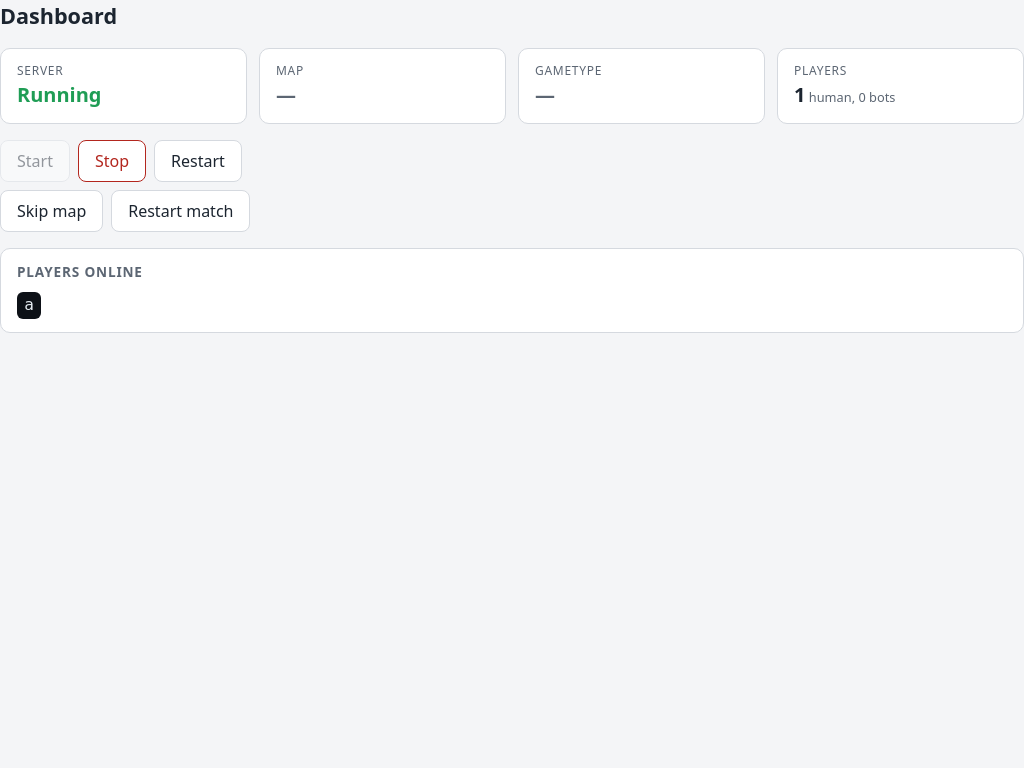
Scenario: stop and restart confirmation (8.5) › cancelling leaves the server alone
Click the button "Restart". click: (198, 161)
box: x1=154 y1=140 x2=242 y2=182
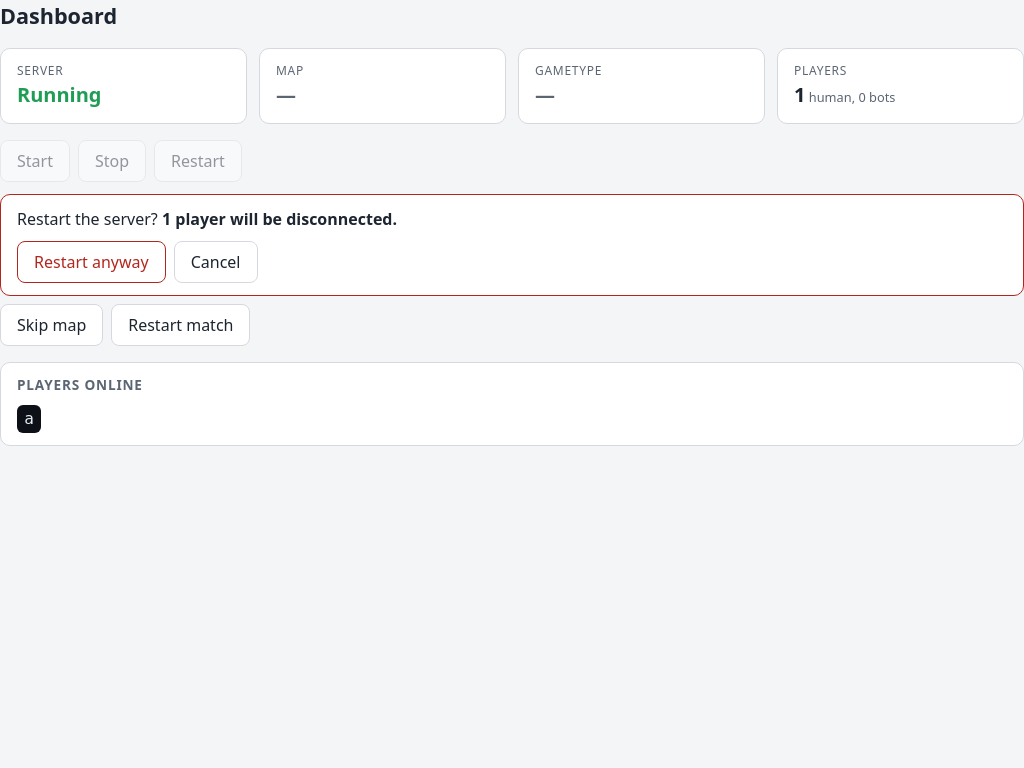
Result: the dialog shows "1 player will be disconnected" at x1=0 y1=194 x2=1023 y2=296
Click the button "Cancel". click: (216, 262)
box: x1=174 y1=241 x2=258 y2=283
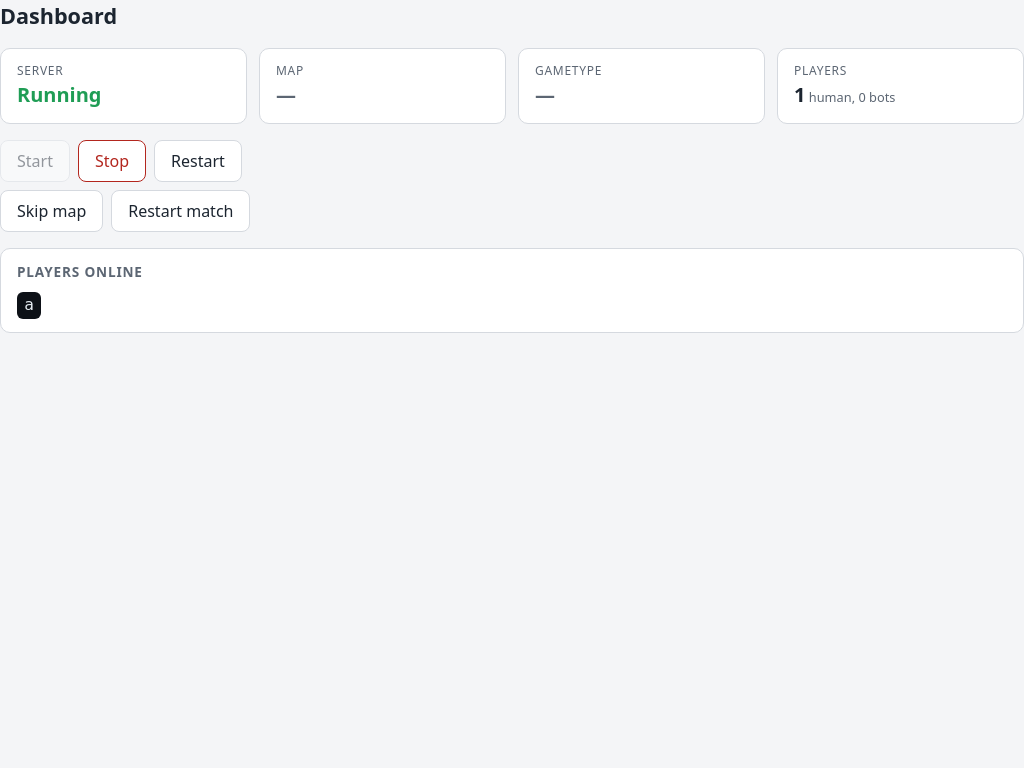
Result: the dialog is gone
